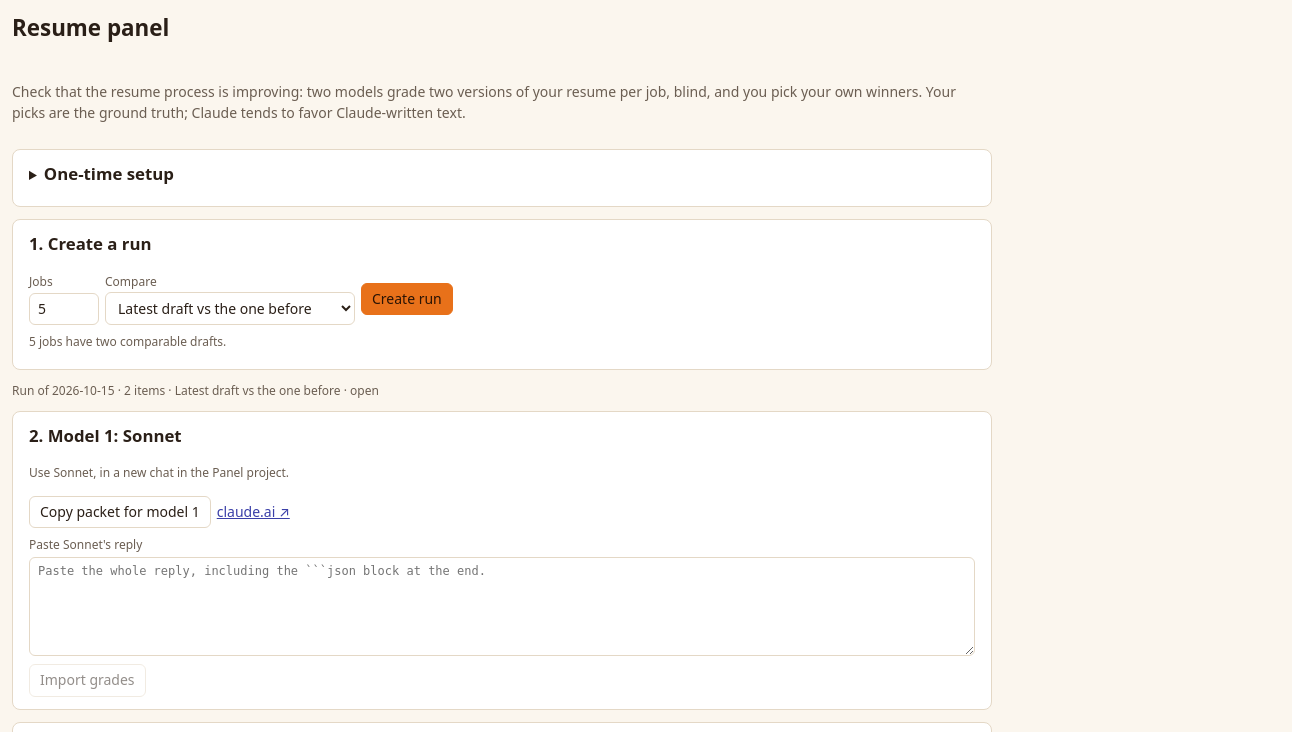
Test: PanelPage › copies packets and imports a model reply
The image size is (1292, 732).
Expected: the text "Use Sonnet, in a new chat in the Panel project." is shown, [29,464,289,481]
Click the button "Copy packet for model 1" at (120, 512), box [29,496,211,528]
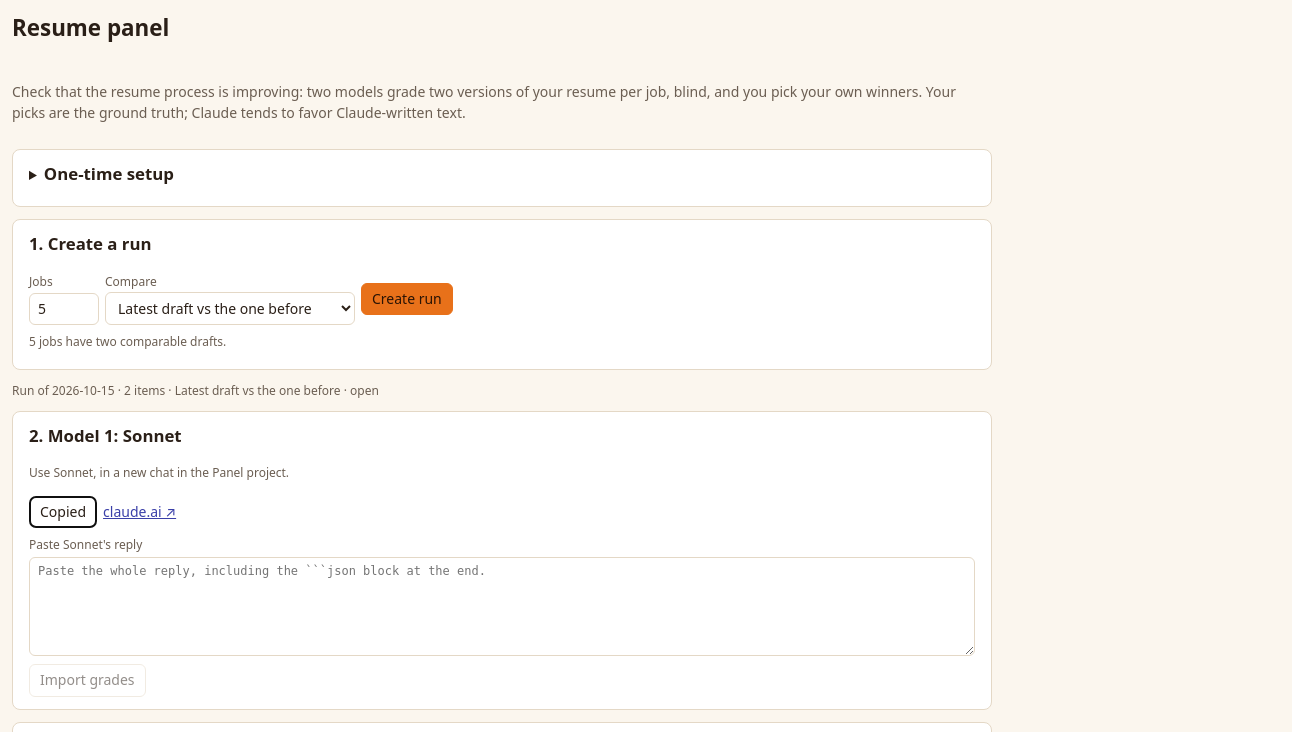
Type "reply" into the text box at (502, 607), box [29,557,975,656]
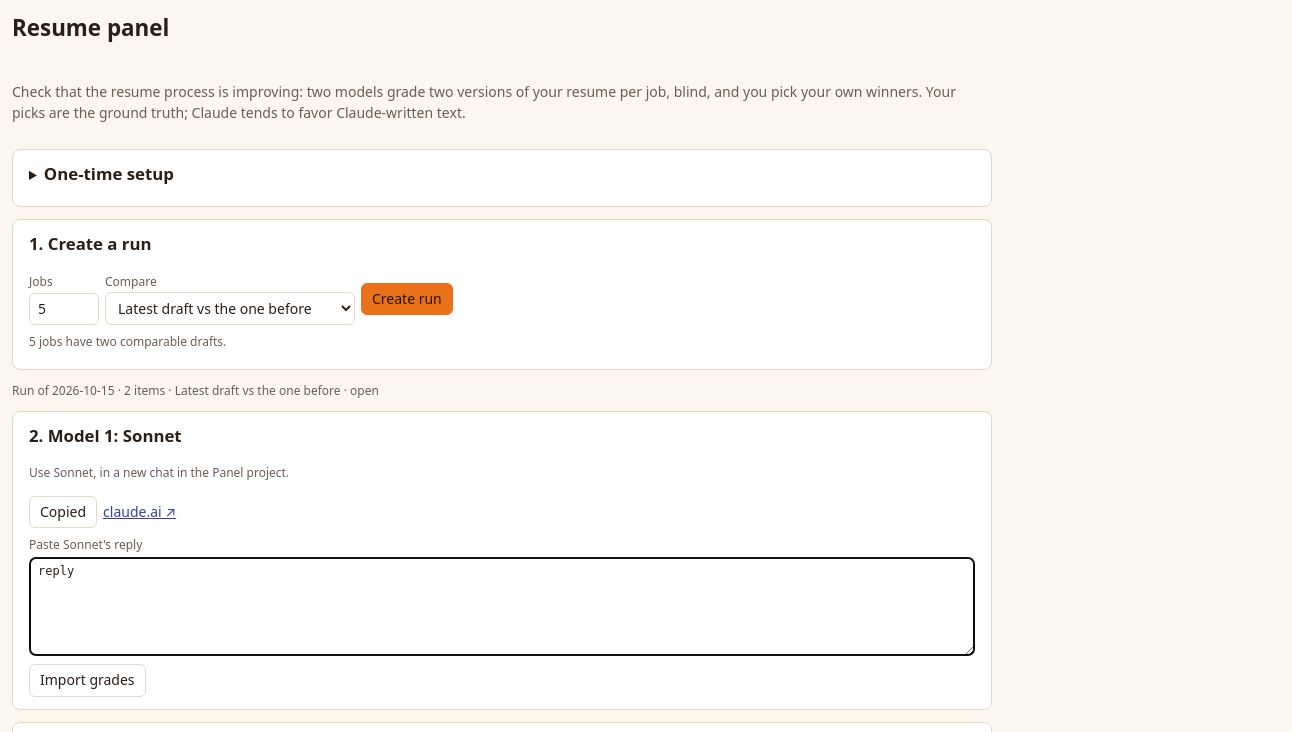
Click the button "Import grades" at (87, 680), box [29,664,146,697]
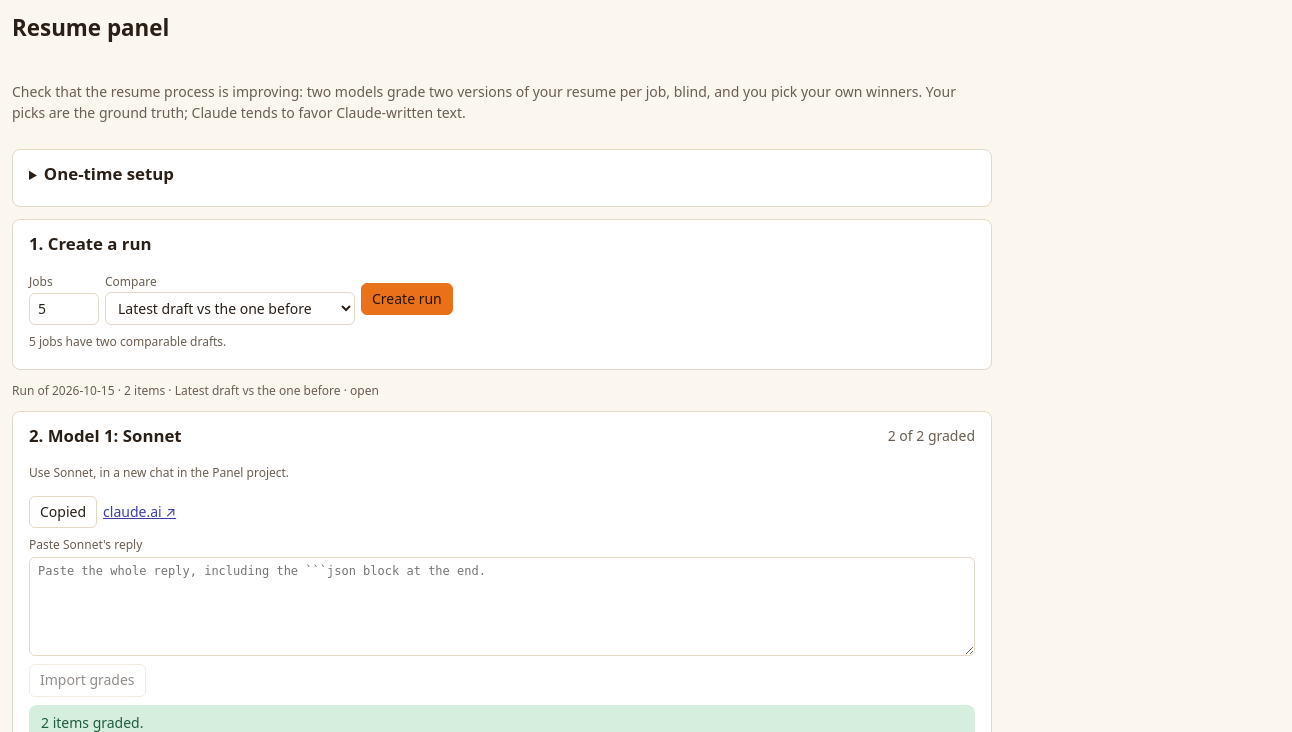
Expected: the text "2 of 2 graded" is shown, [888,426,975,446]
